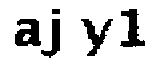1: (118, 7, 150, 52)
a: (11, 18, 44, 51)
j: (42, 5, 67, 60)
y: (81, 15, 115, 58)
